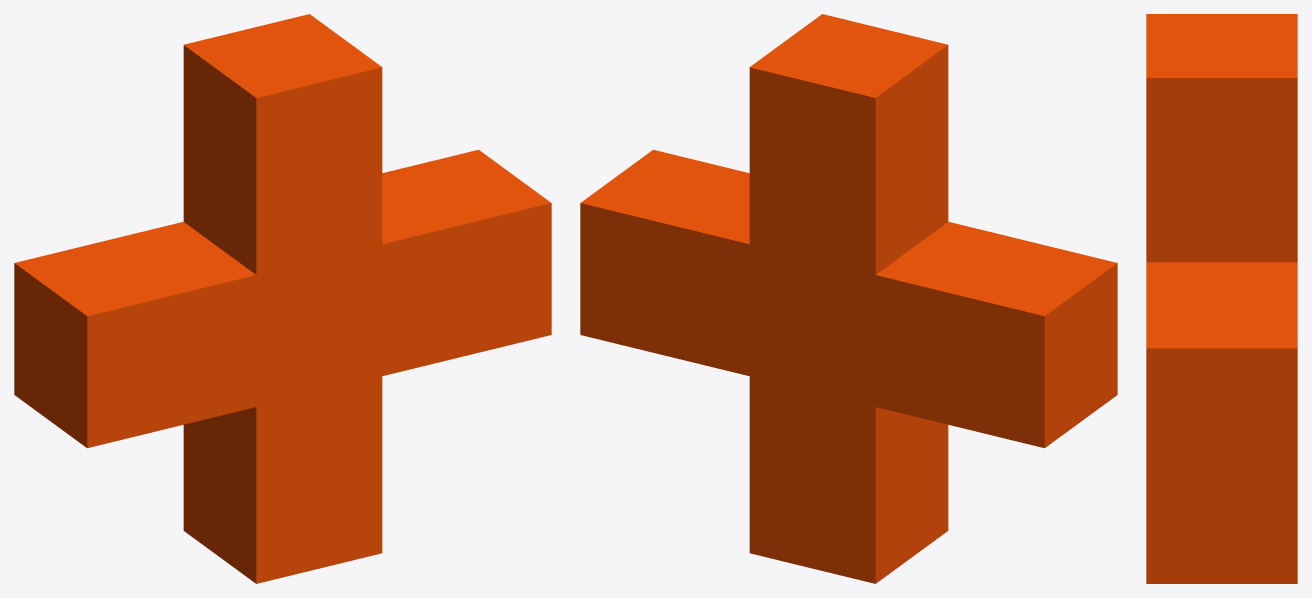
The model's file is plus.glb.
3 renders of one model, left to right at view 1: azimuth 30°, elevation 25°; view 2: azimuth 150°, elevation 25°; view 3: azimuth 270°, elevation 25°, orthographic. The views are drawn at different scales.
Parts seen in each view (by area): view 1: Cube.001; view 2: Cube.001; view 3: Cube.001.
Boxes of the visible parts, x1=… form: Cube.001: x1=14, y1=14, x2=551, y2=583; Cube.001: x1=580, y1=14, x2=1117, y2=583; Cube.001: x1=1146, y1=14, x2=1297, y2=583.
Size of the model in its own units: 13.98 by 13.98 by 3.8.
